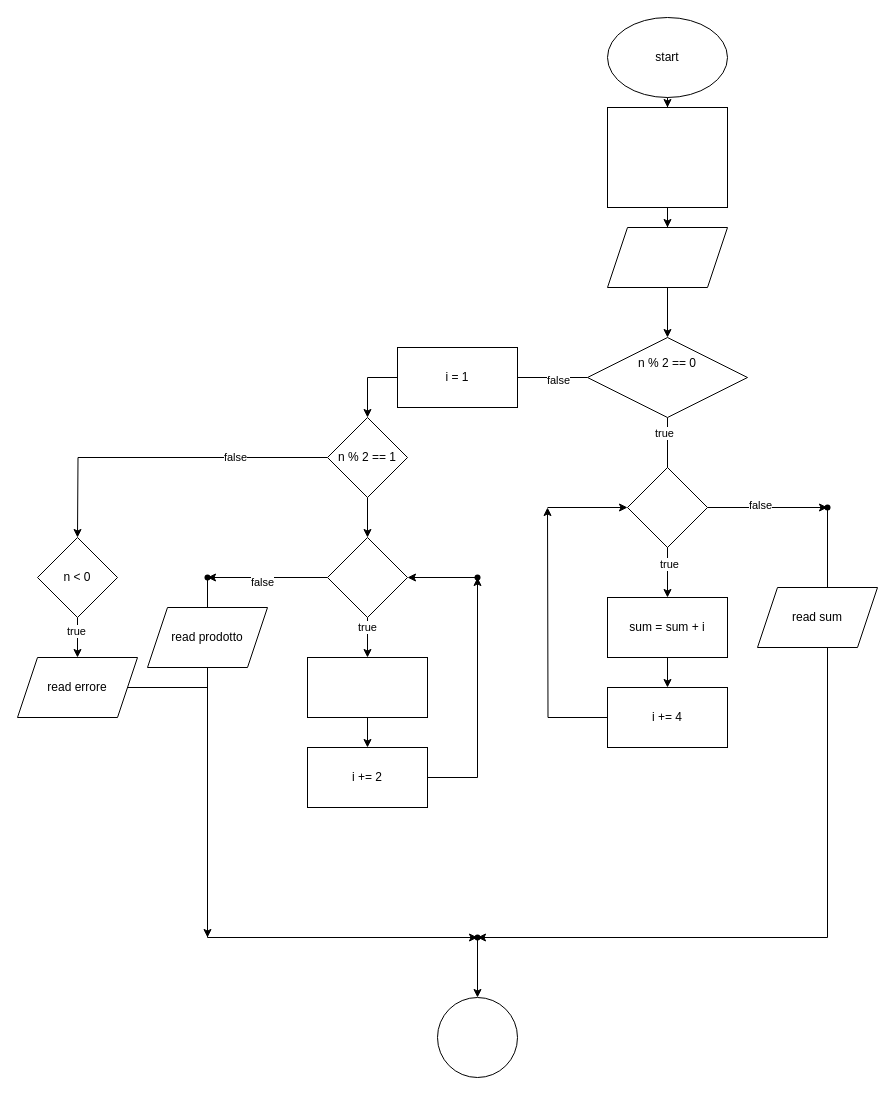
Some shapes in this 895 by 1095 pixel diagram are drawn without their labels. Here are the shapes that lost their labels. From the top down, the box of each, then its label:
(606, 106, 728, 208): sum = 0 n = 0 prodotto = 1 i = 0
(606, 226, 728, 288): read n
(626, 466, 708, 548): i<=n
(326, 536, 408, 618): i <= n
(306, 656, 428, 718): prodotto = prodotto * i
(436, 996, 518, 1078): end
